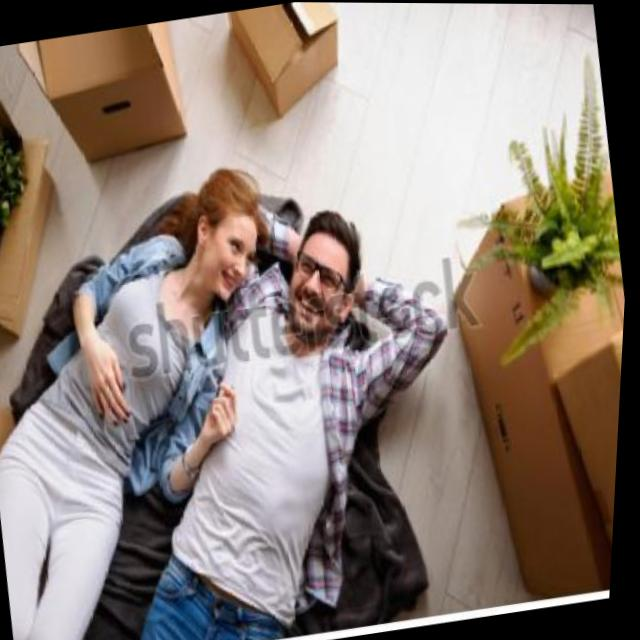box: (423, 186, 633, 617), (3, 14, 230, 190), (0, 73, 83, 349), (548, 322, 627, 592), (222, 1, 365, 139)
